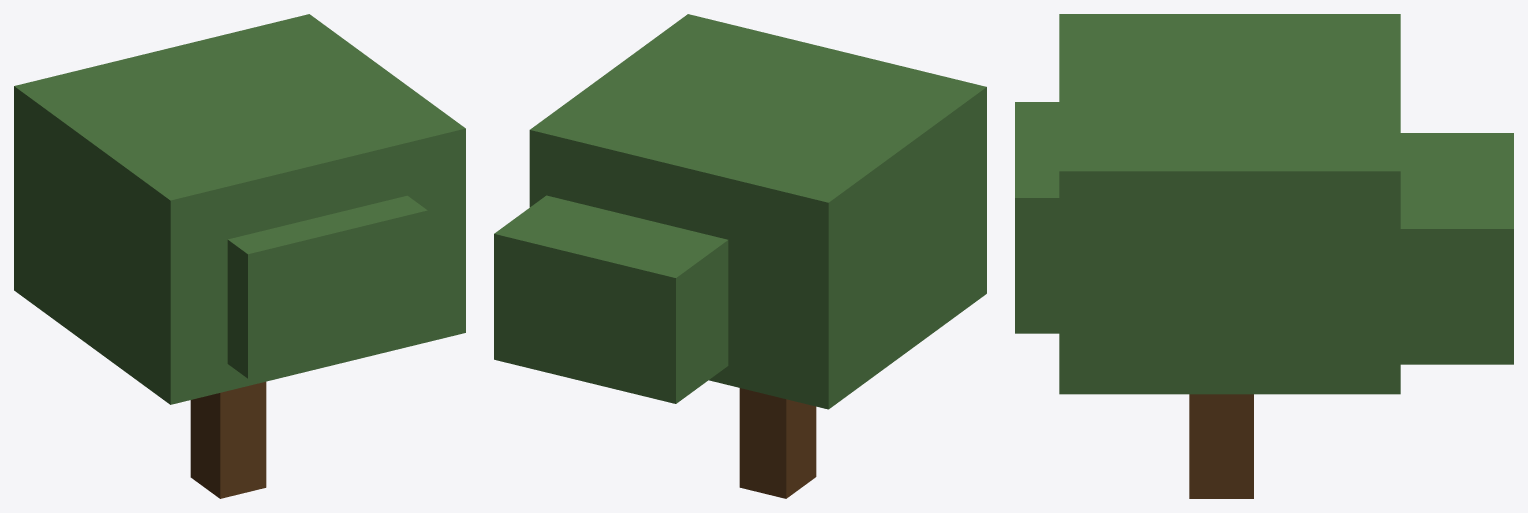
The model's file is trees4.gltf.
3 renders of one model, left to right at view 1: azimuth 30°, elevation 25°; view 2: azimuth 150°, elevation 25°; view 3: azimuth 270°, elevation 25°, orthographic. The views are drawn at different scales.
Parts seen in each view (by area): view 1: Cube.006, Cube.007, Cube.008; view 2: Cube.006, Cube.009, Cube.008; view 3: Cube.006, Cube.009, Cube.007, Cube.008.
Boxes of the visible parts, bbox=[...] form: Cube.006: bbox=[14, 14, 465, 404]; Cube.007: bbox=[227, 195, 427, 378]; Cube.008: bbox=[190, 381, 266, 498]; Cube.006: bbox=[529, 14, 986, 409]; Cube.009: bbox=[494, 195, 728, 403]; Cube.008: bbox=[739, 388, 816, 498]; Cube.006: bbox=[1059, 14, 1400, 394]; Cube.009: bbox=[1400, 133, 1513, 364]; Cube.007: bbox=[1015, 102, 1059, 333]; Cube.008: bbox=[1189, 394, 1253, 498].
Size of the model in its own units: 0.3372 by 0.4021 by 0.4517.
